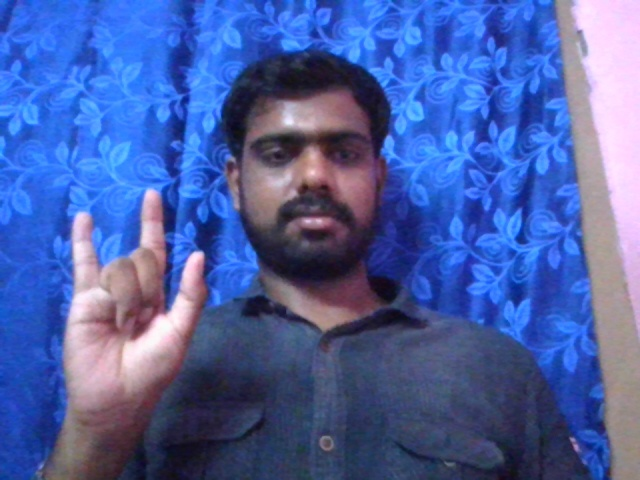IloveYou: (56, 183, 212, 404)
